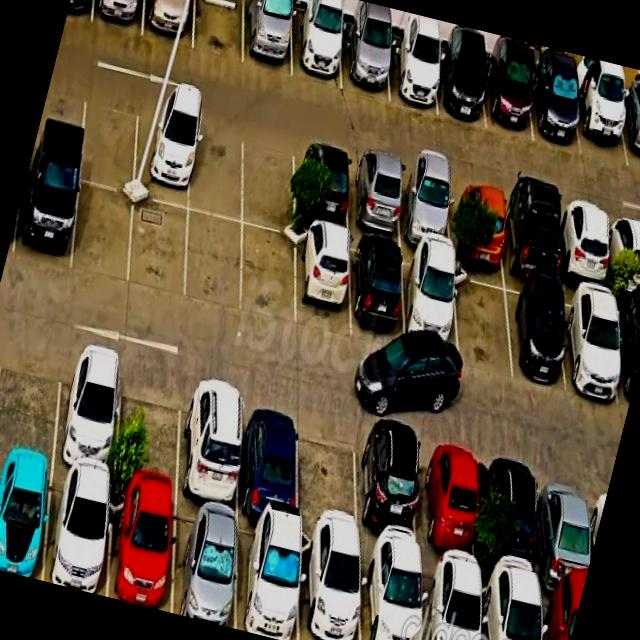empty: (115, 358, 183, 498), (0, 329, 63, 464), (298, 406, 358, 544), (453, 265, 512, 378), (71, 181, 134, 284), (79, 86, 138, 192), (129, 196, 188, 301), (188, 114, 242, 221), (185, 211, 242, 312), (242, 127, 294, 236), (241, 226, 294, 326), (193, 0, 244, 63)
occupied: (52, 342, 122, 482), (178, 374, 242, 513), (357, 419, 420, 558), (43, 469, 111, 596), (171, 500, 237, 629), (108, 485, 174, 613), (238, 389, 299, 526), (420, 432, 476, 573), (235, 517, 299, 640), (13, 163, 79, 271), (489, 448, 540, 586), (540, 461, 592, 595), (561, 285, 620, 402), (504, 276, 565, 386), (299, 531, 360, 640), (133, 100, 194, 208), (402, 250, 458, 365), (0, 457, 52, 580), (350, 237, 405, 348), (296, 224, 349, 338), (360, 549, 421, 640), (502, 188, 558, 282), (450, 176, 504, 267), (295, 140, 349, 231), (421, 560, 481, 640), (398, 163, 451, 252), (349, 152, 402, 241), (573, 80, 627, 167), (559, 201, 610, 289), (531, 66, 580, 154), (291, 7, 342, 89), (434, 48, 485, 128), (485, 56, 533, 140), (481, 574, 541, 640), (387, 35, 437, 114), (243, 0, 291, 76), (341, 24, 388, 99), (614, 296, 640, 409), (607, 211, 640, 295), (142, 0, 195, 48), (540, 587, 581, 640), (91, 0, 144, 35), (617, 90, 640, 170)
